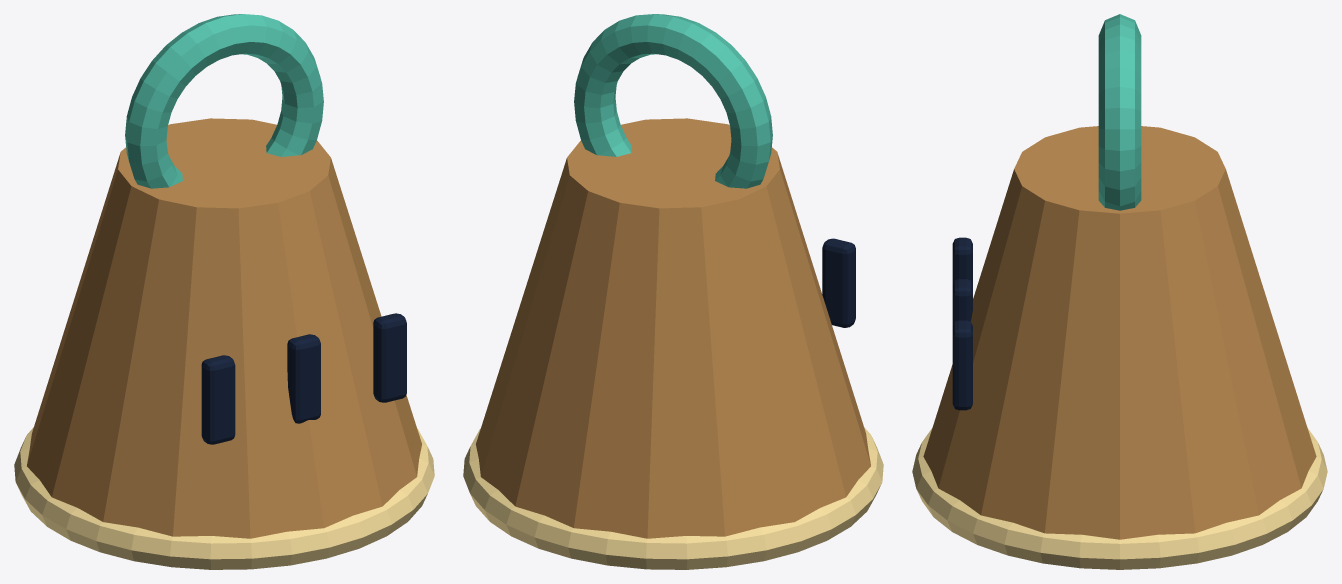
The model's file is Item_teleport_bell.fbx.
The picture shows the model from 3 angles, left to right: view 1: azimuth 30°, elevation 25°; view 2: azimuth 150°, elevation 25°; view 3: azimuth 270°, elevation 25°; orthographic projection.
Visible parts, largest first — view 1: Item_teleport_bell.Mesh; view 2: Item_teleport_bell.Mesh; view 3: Item_teleport_bell.Mesh.
Boxes of the visible parts, <box> form: Item_teleport_bell.Mesh: <box>14,14,434,569</box>; Item_teleport_bell.Mesh: <box>463,14,883,569</box>; Item_teleport_bell.Mesh: <box>912,14,1327,569</box>.
Bounding box in the file's own units: 51 × 65.6 × 51.
